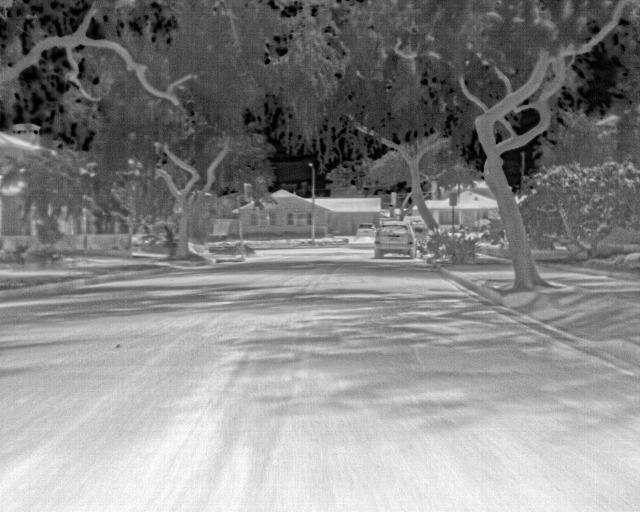car: (372, 220, 417, 260), (355, 220, 375, 240)
